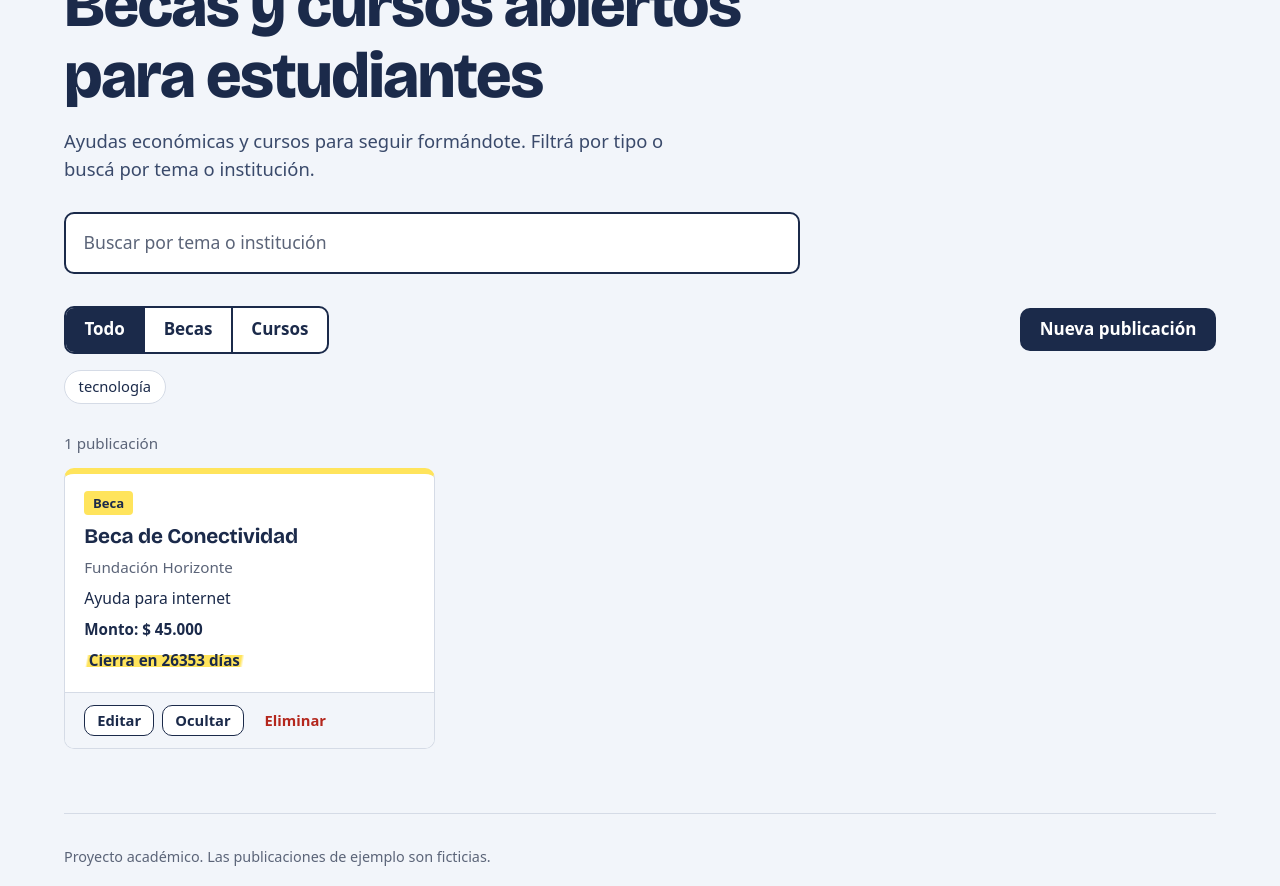
Galería › elimina una publicación después de confirmar
(page scrolled)
What coordinates should you click on to do the following:
click the button with aria-label "Eliminar Beca de Conectividad"
I would click on:
 (295, 721)
Its box is 252,705 -> 339,736.
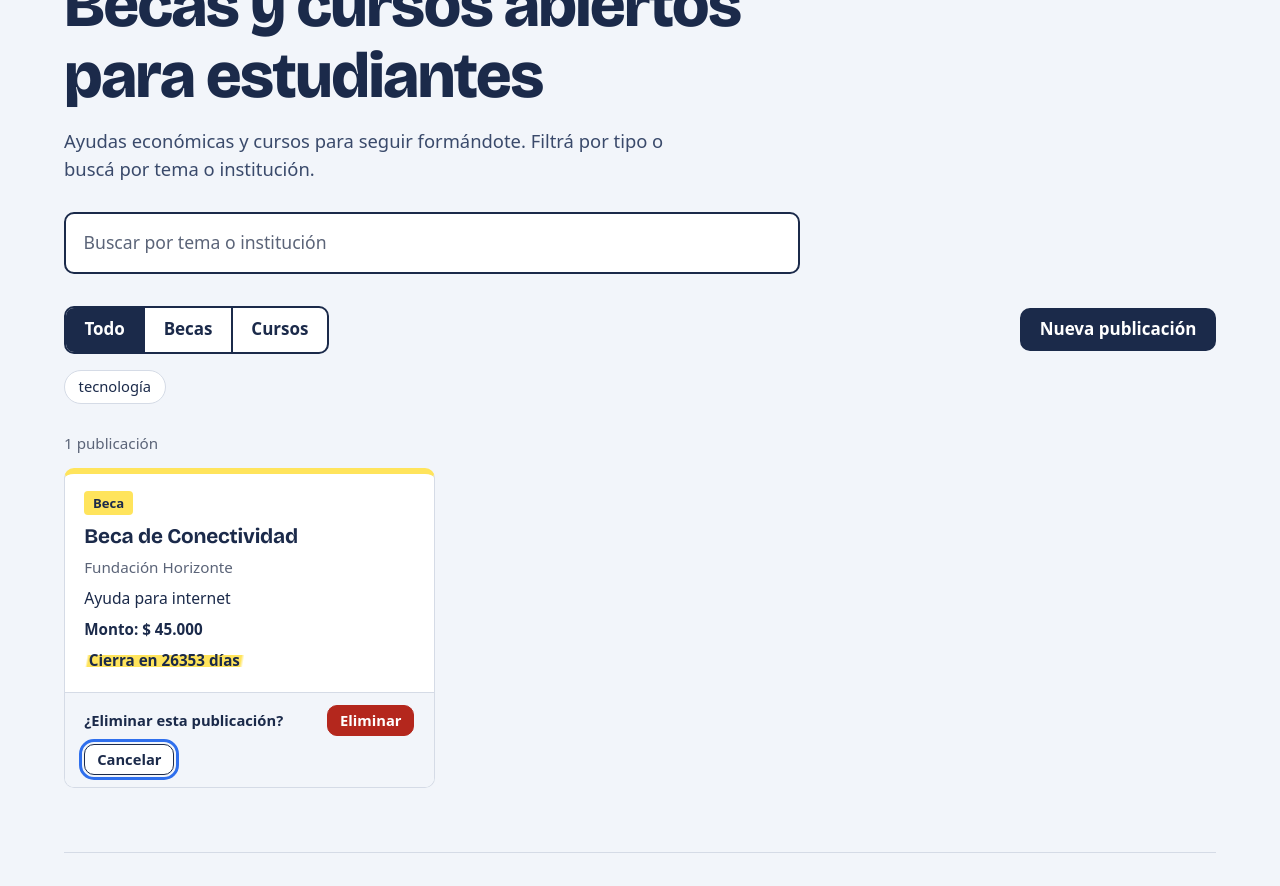
Now the text "¿Eliminar esta publicación?" is shown, box 84,709 -> 283,732
What coordinates should you click on to do the following:
click the button "Eliminar"
I would click on:
 (371, 721)
Its box is 327,705 -> 414,736.
(page scrolled)
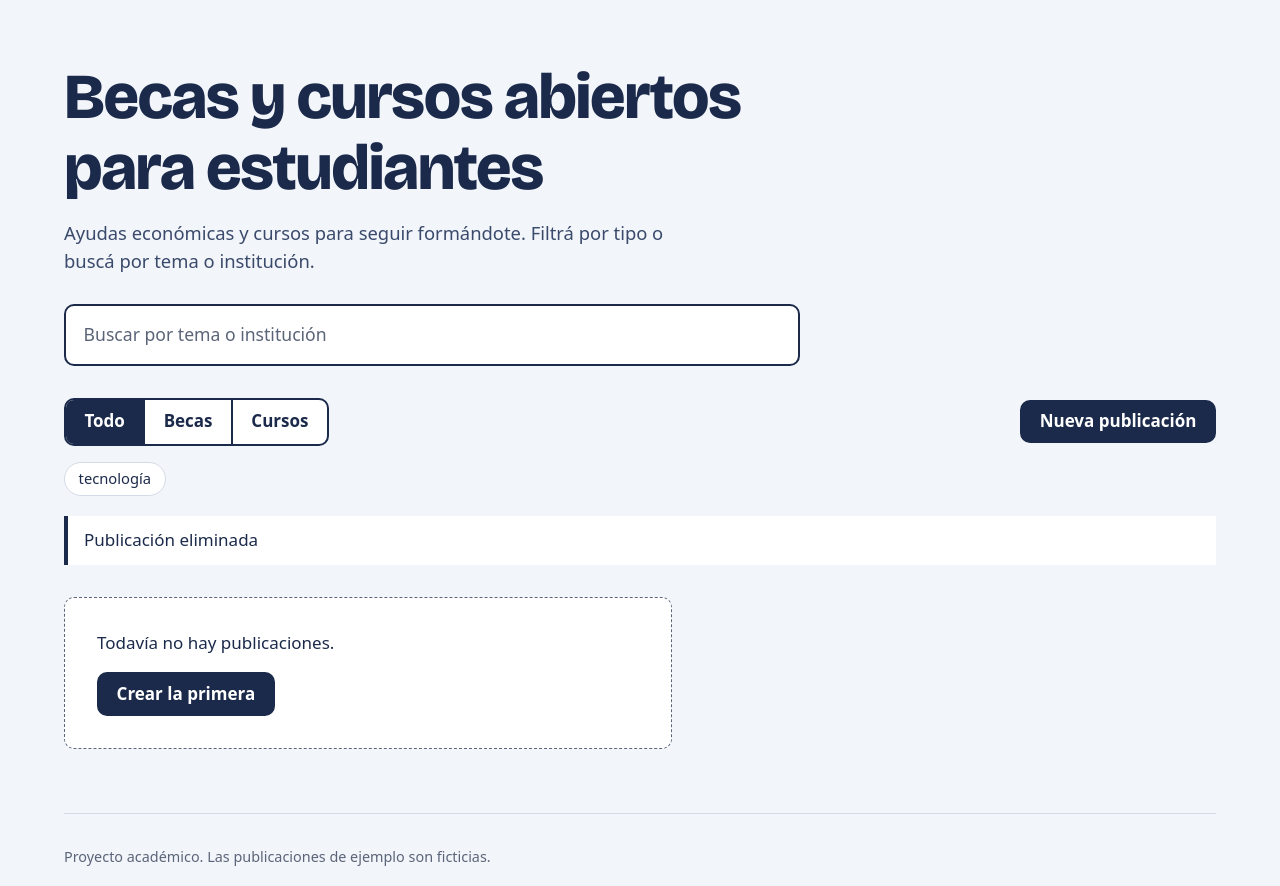
Now the link "Beca de Conectividad" is gone
Now the text "Publicación eliminada" is shown, box 64,516 -> 1216,565
